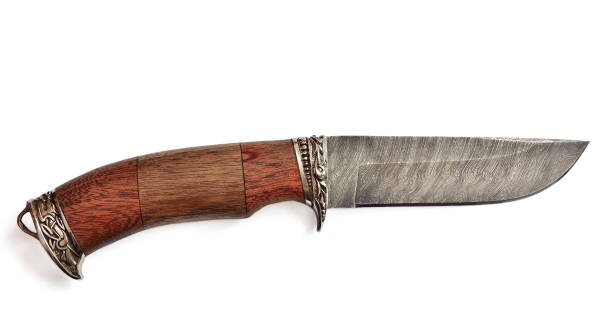knife: (14, 134, 592, 282)
